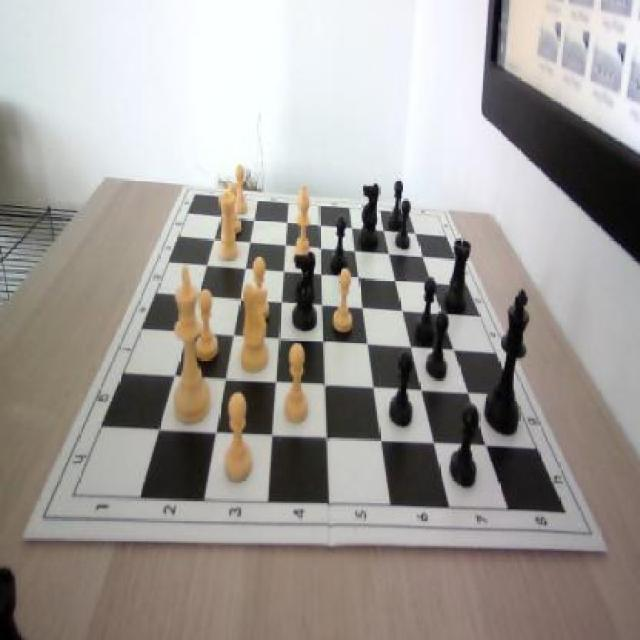black-bishop: (485, 291, 529, 435)
black-king: (291, 249, 319, 330), (358, 180, 380, 252)
black-knight: (449, 403, 478, 487), (390, 349, 416, 426), (424, 311, 448, 380), (415, 275, 437, 343), (331, 215, 349, 272), (395, 198, 411, 252), (389, 180, 405, 230)
black-queen: (445, 236, 470, 310)
black-rook: (290, 180, 316, 277)
white-bishop: (169, 264, 212, 424)
white-king: (234, 274, 273, 375)
white-knight: (221, 392, 254, 482), (282, 340, 312, 425), (192, 288, 220, 364), (246, 257, 270, 325), (334, 266, 354, 332), (231, 168, 249, 216), (225, 183, 242, 233)
white-queen: (217, 191, 240, 261)
